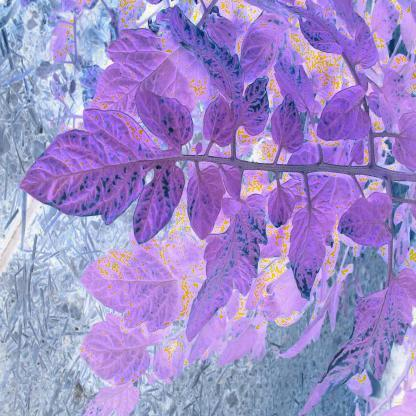Tomato leaf late blight: (18, 102, 166, 238), (167, 8, 280, 150), (185, 172, 267, 344), (276, 196, 348, 316), (324, 170, 398, 266), (128, 156, 191, 254), (312, 66, 367, 150), (180, 160, 226, 240), (134, 92, 194, 150), (270, 96, 307, 167), (264, 178, 298, 233)
